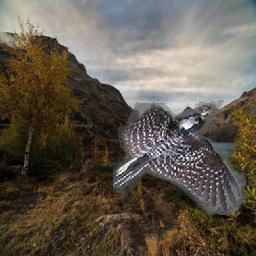Woodpecker: (114, 101, 247, 216)
